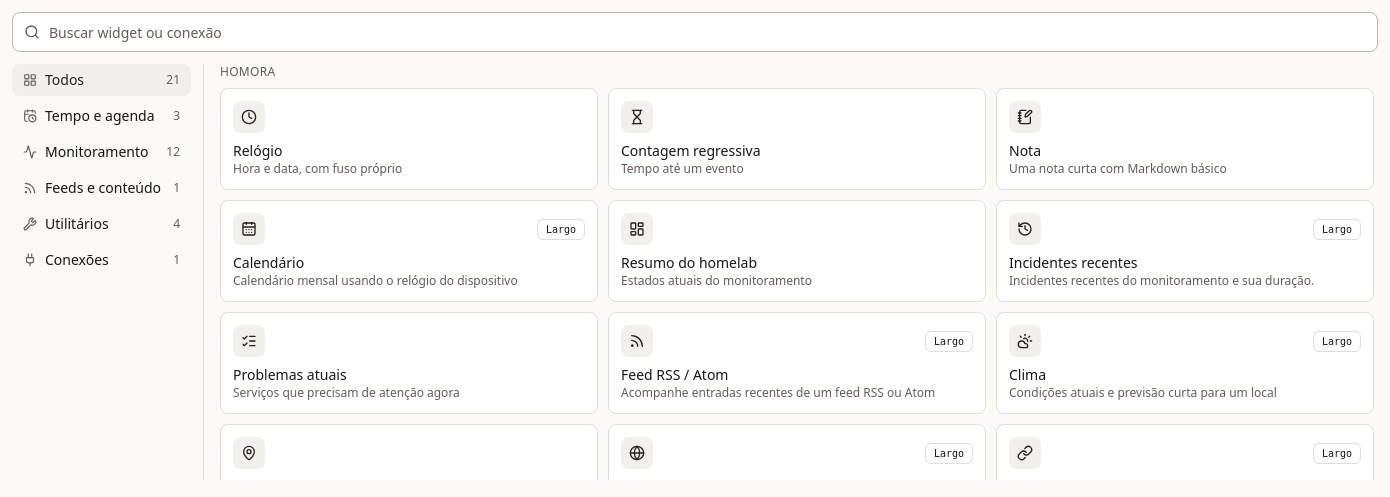
Test: picks a single search match on Enter and clears empty search state
Type "atom" into the search field labelled "Buscar widget ou conexão" at {"x": 695, "y": 32}, box x1=12 y1=12 x2=1378 y2=52
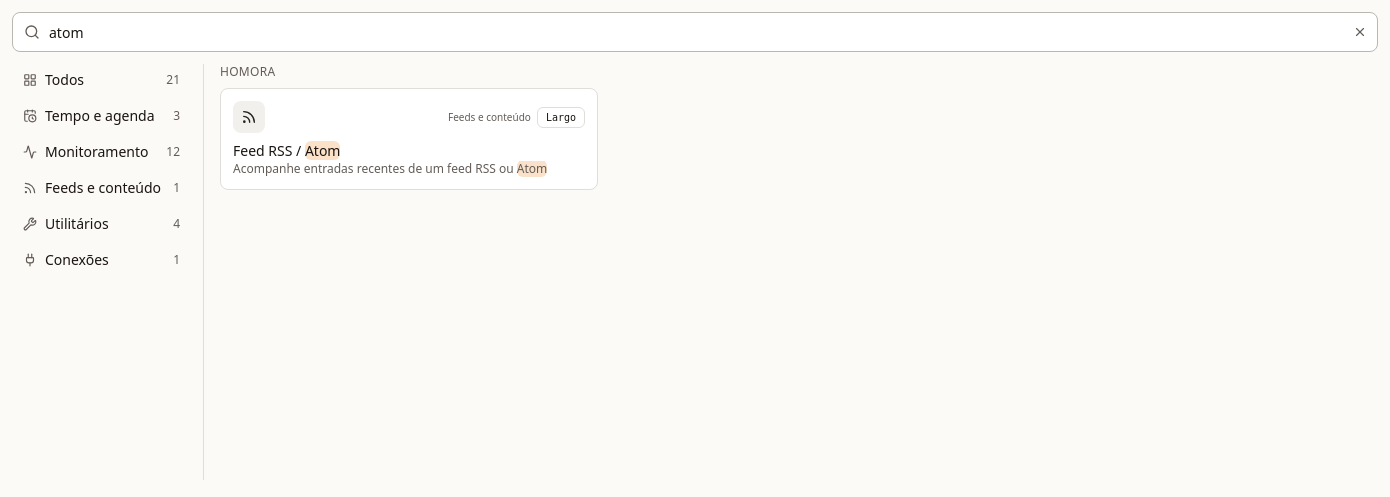
Press Enter in the search field named "Buscar widget ou conexão", box x1=12 y1=12 x2=1378 y2=52
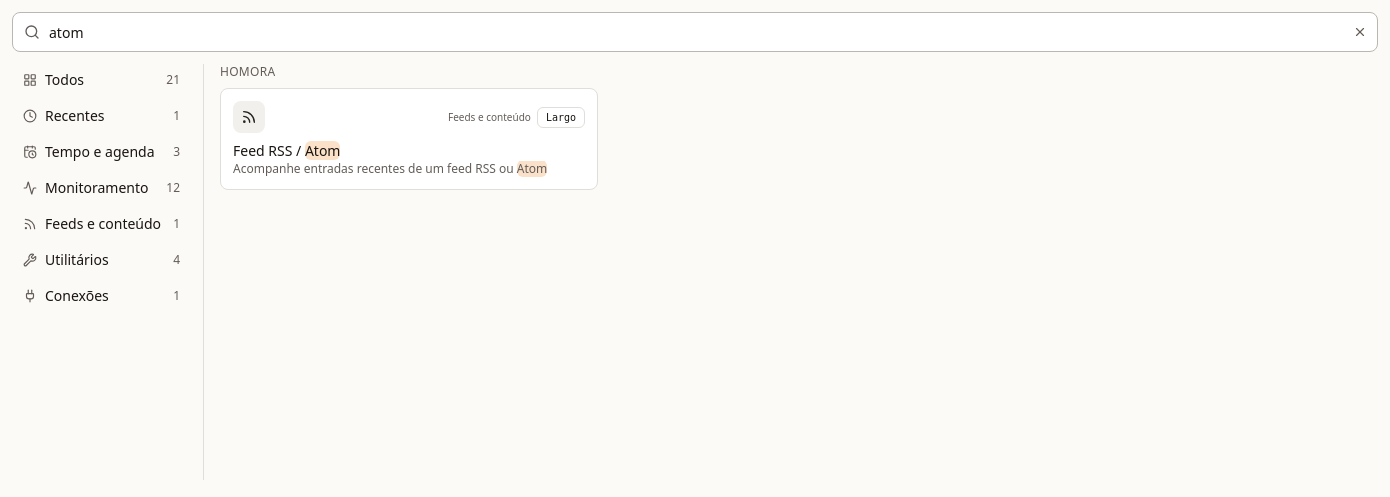
Replace the text in the search field named "Buscar widget ou conexão" with "no-such-widget-xyz" at {"x": 695, "y": 32}, box x1=12 y1=12 x2=1378 y2=52
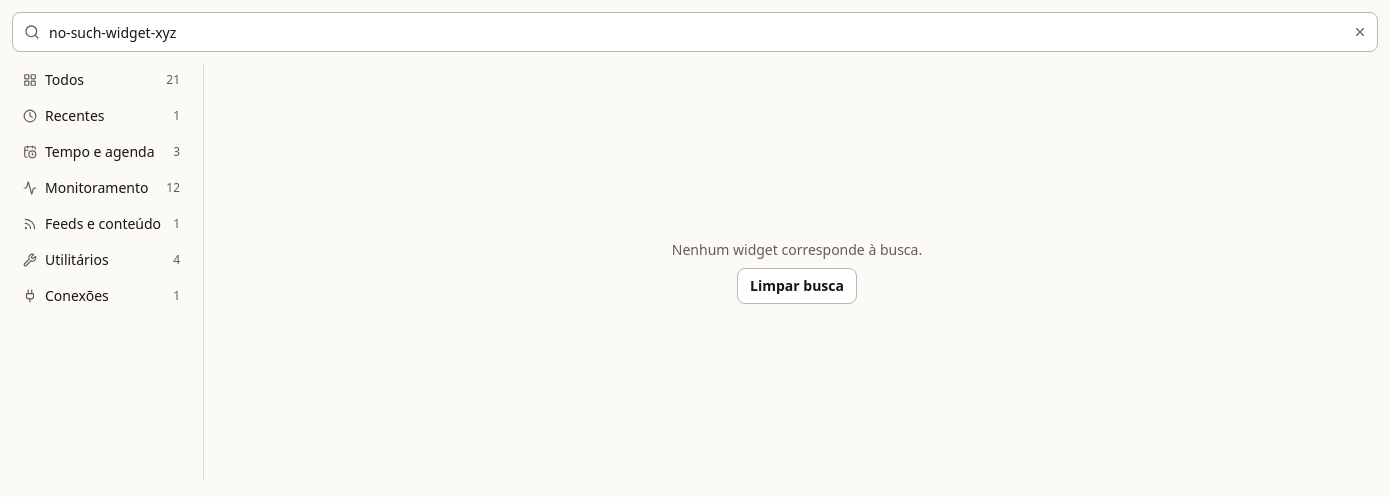
Expected: the text "Nenhum widget corresponde à busca." is shown, x1=672 y1=240 x2=922 y2=260
Expected: the button "Limpar busca" is shown
Click the button "Limpar busca" at {"x": 797, "y": 286}, box x1=737 y1=268 x2=857 y2=304
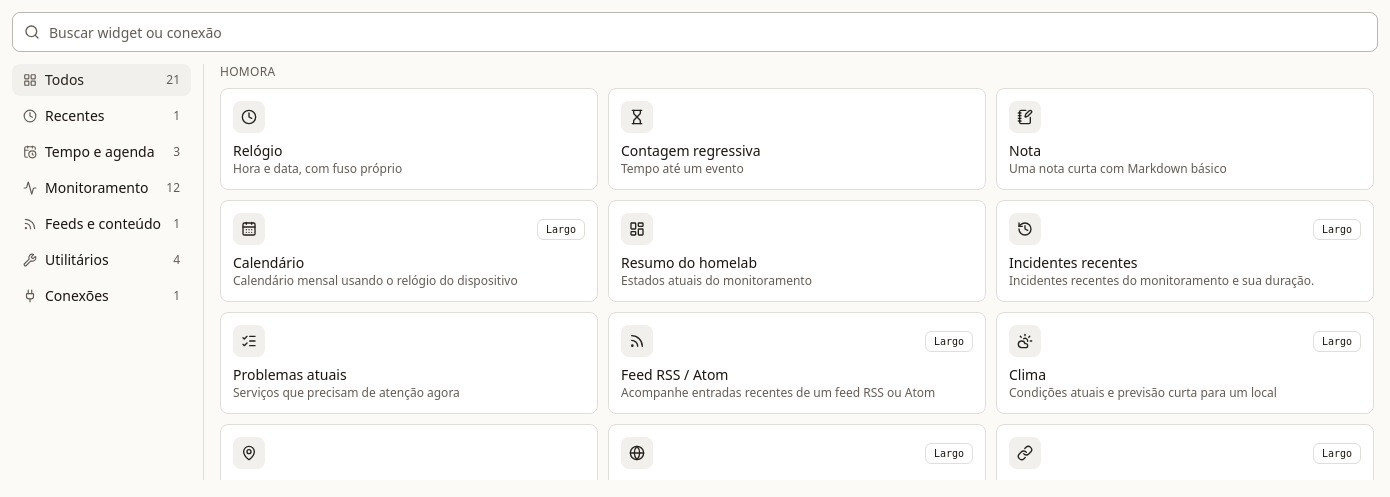
Expected: the search field labelled "Buscar widget ou conexão" is empty, x1=12 y1=12 x2=1378 y2=52
Expected: the button "Relógio Hora e data, com fuso próprio" is shown, x1=220 y1=88 x2=598 y2=190
